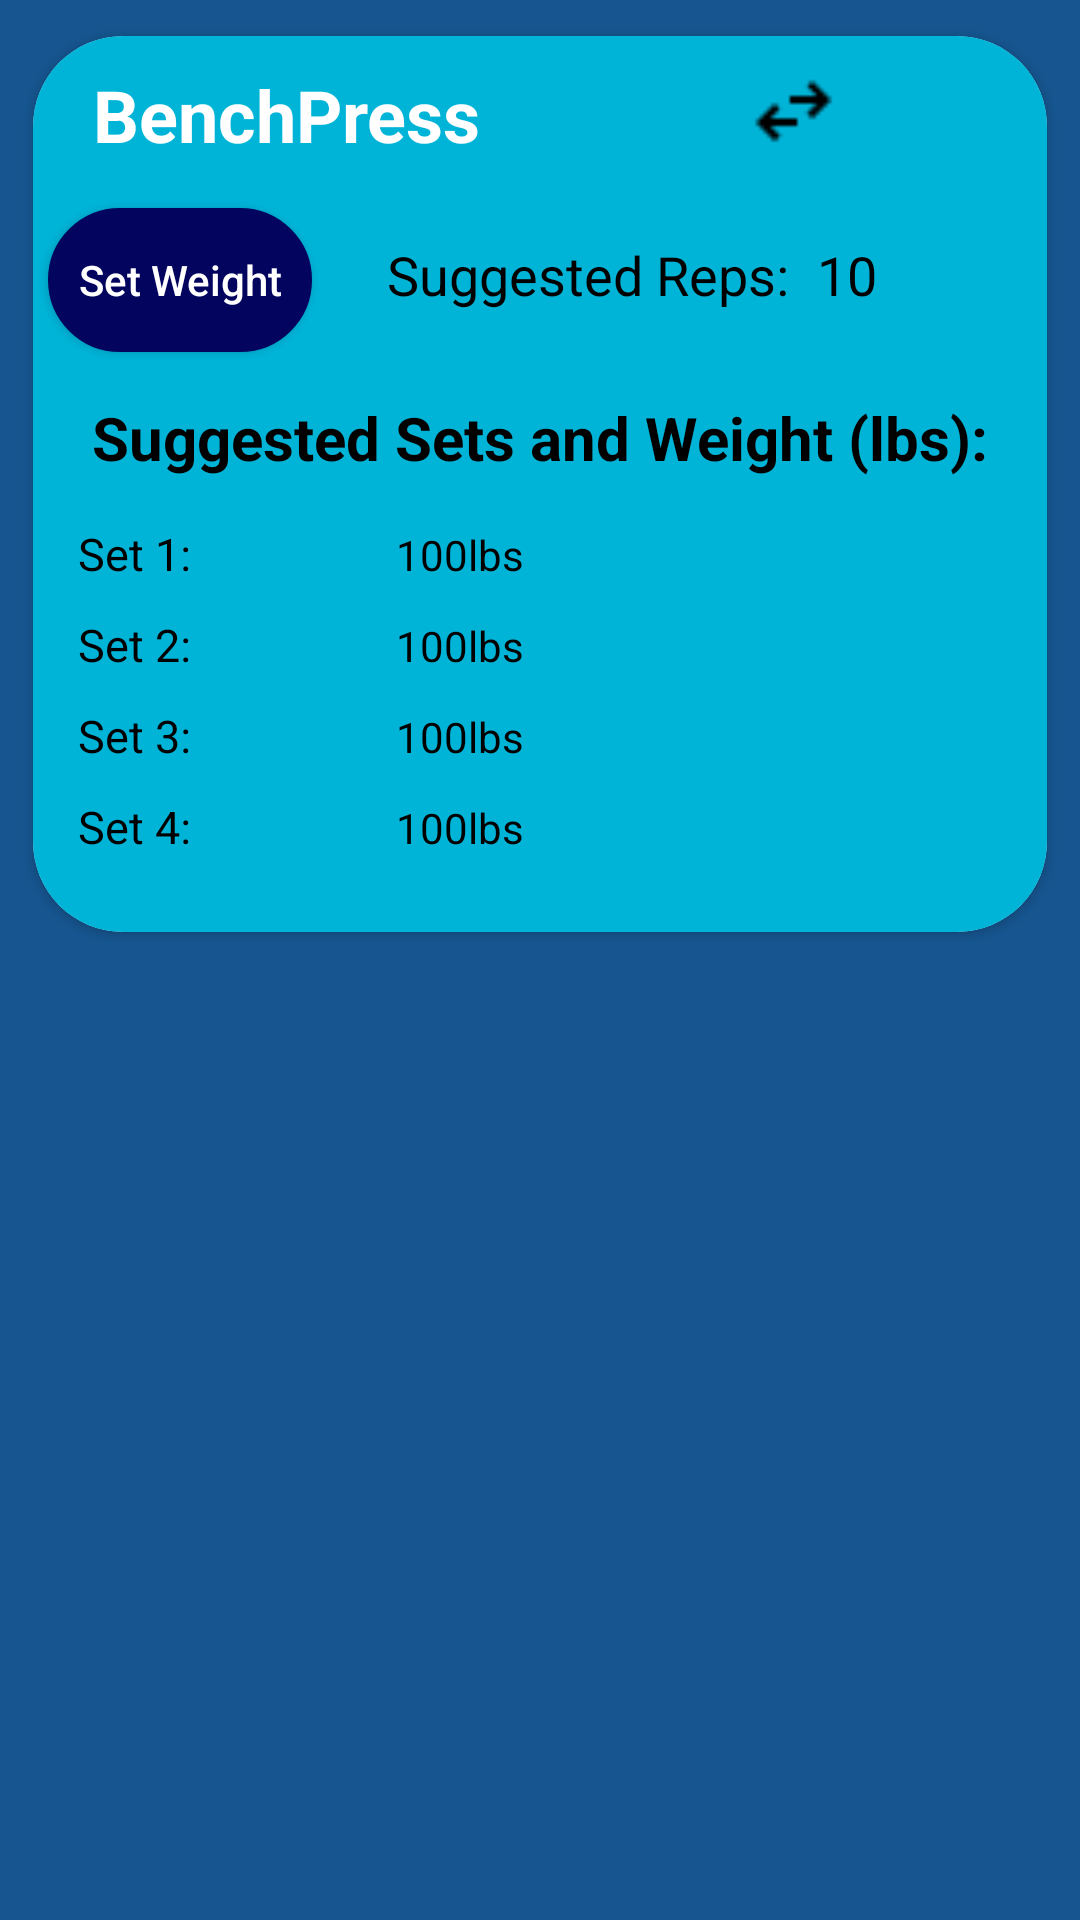

Point at icon controls on the screen. Image size 1080 x 1920, points as (x,y).
swap: (793,111)
